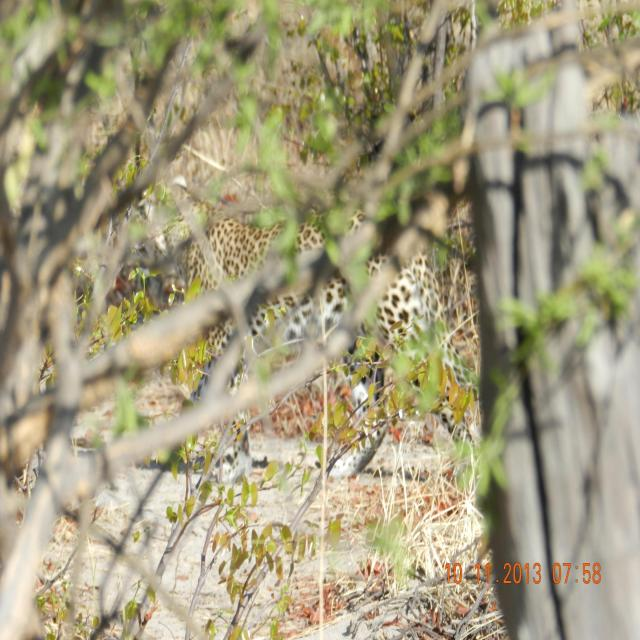Leopard: (154, 206, 560, 427)
